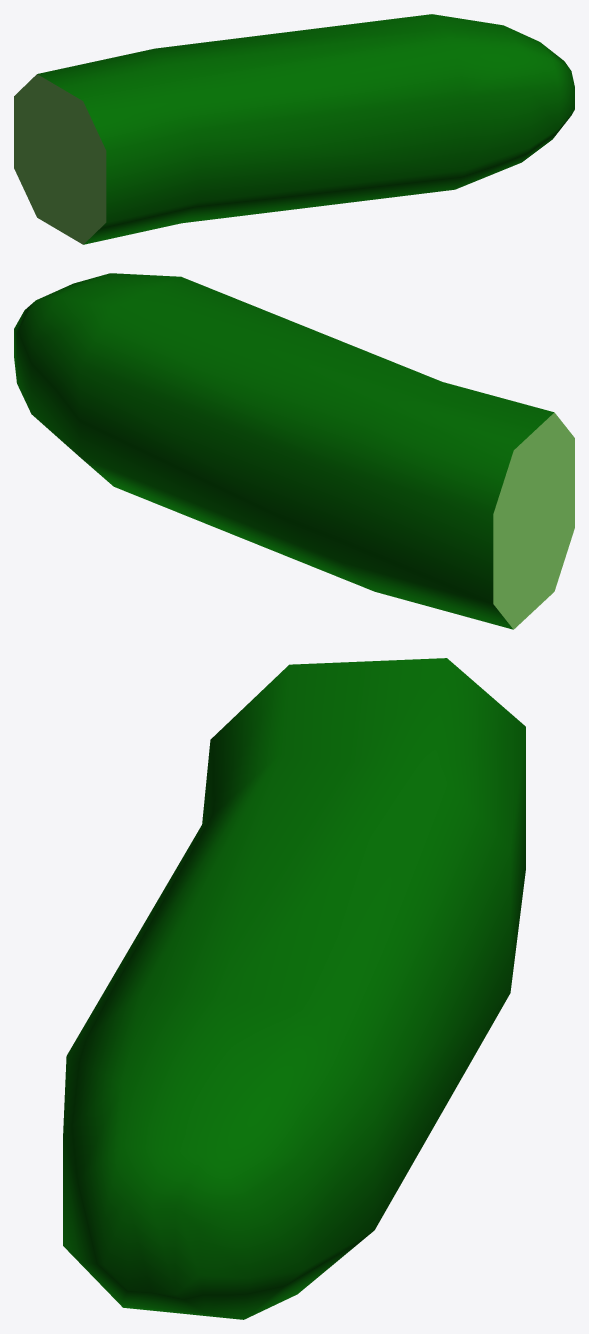
File: mesh_Cucumber_Stage07.fbx
The picture shows the model from 3 angles, top to bottom: view 1: azimuth 30°, elevation 25°; view 2: azimuth 150°, elevation 25°; view 3: azimuth 270°, elevation 25°; orthographic projection. The views are drawn at different scales.
Parts seen in each view (by area): view 1: mesh_Cucumber_Stage07; view 2: mesh_Cucumber_Stage07; view 3: mesh_Cucumber_Stage07.
Part boxes in pixels (left/top/right/bottom): mesh_Cucumber_Stage07: left=14, top=14, right=574, bottom=244; mesh_Cucumber_Stage07: left=14, top=273, right=574, bottom=629; mesh_Cucumber_Stage07: left=63, top=658, right=525, bottom=1319.
Bounding box in the file's own units: 0.1243 × 0.0367 × 0.0535.
